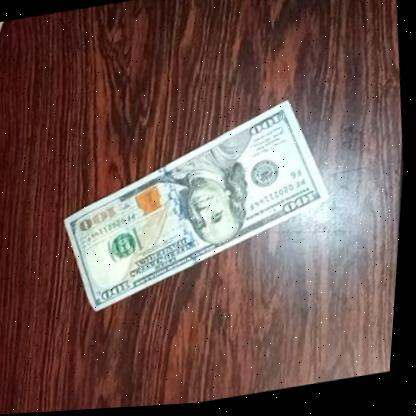one_hundred-front: (52, 96, 350, 316)
